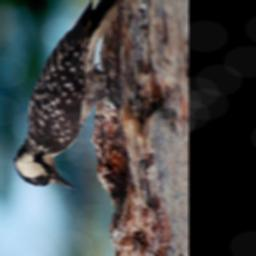Woodpecker: (0, 0, 129, 194)
